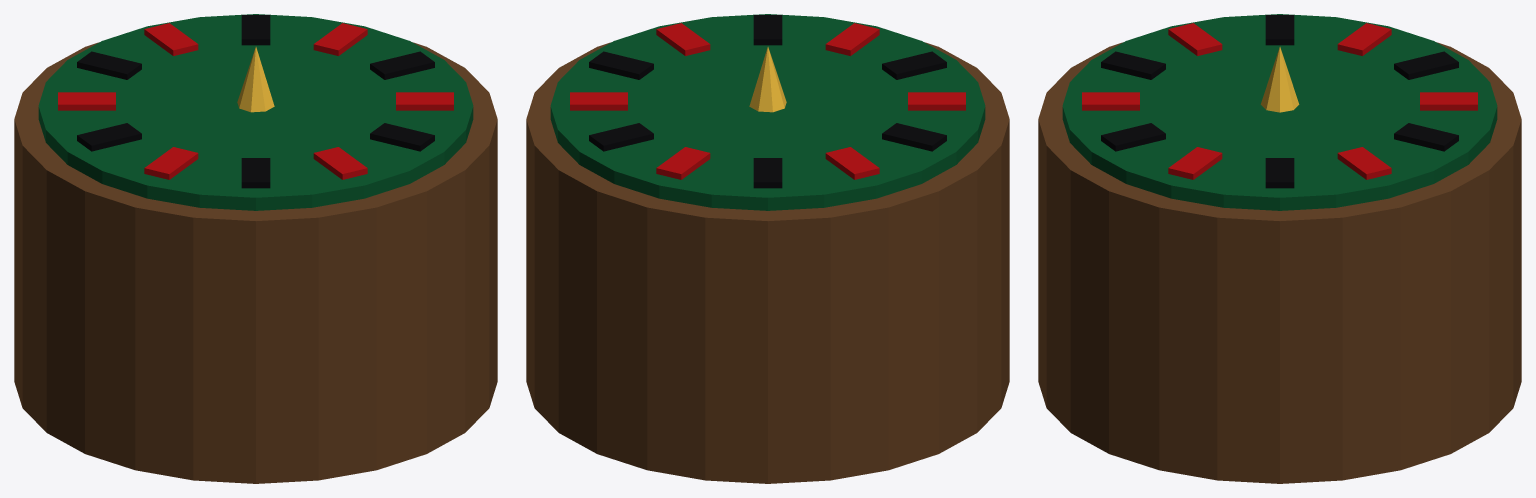
The model's file is Prop_OR_Roulette_05.glb.
3 views of the same model, side by side, from view 1: azimuth 30°, elevation 25°; view 2: azimuth 150°, elevation 25°; view 3: azimuth 270°, elevation 25° (orthographic).
Parts seen in each view (by area): view 1: Prop_OR_Roulette_05; view 2: Prop_OR_Roulette_05; view 3: Prop_OR_Roulette_05.
Boxes of the visible parts, x1=… form: Prop_OR_Roulette_05: x1=14, y1=14, x2=497, y2=483; Prop_OR_Roulette_05: x1=526, y1=14, x2=1009, y2=483; Prop_OR_Roulette_05: x1=1038, y1=14, x2=1521, y2=483.
Size of the model in its own units: 1.5 by 1.15 by 1.5.
